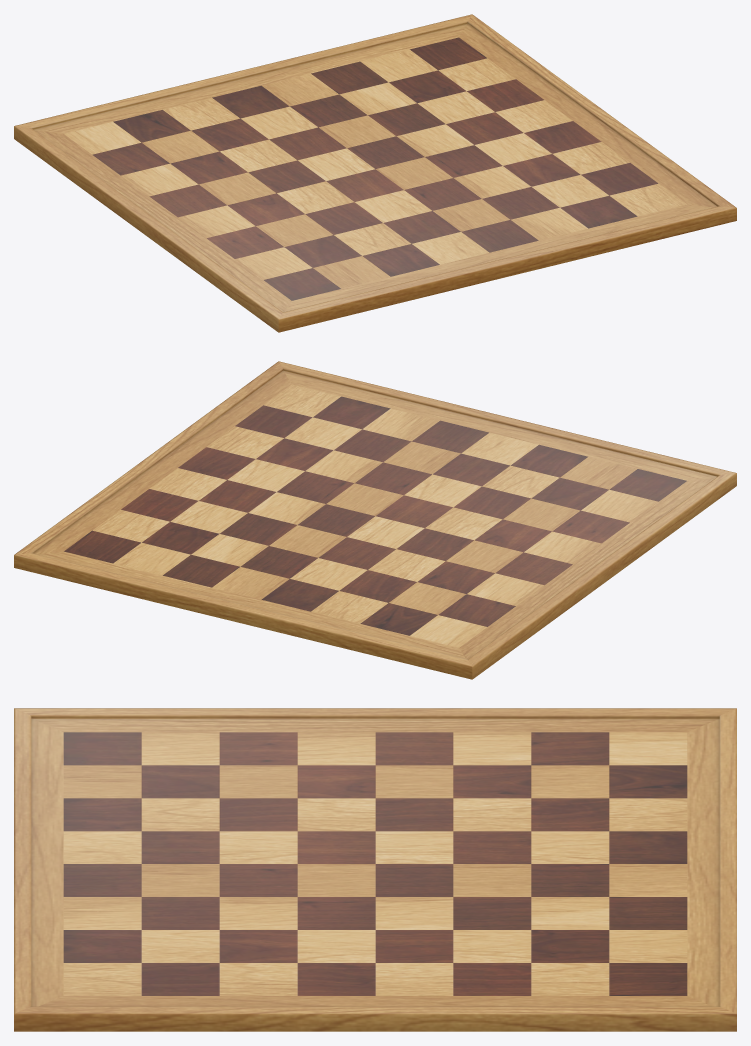
File: free_3d_model_checkers.glb
The picture shows the model from 3 angles, top to bottom: view 1: azimuth 30°, elevation 25°; view 2: azimuth 150°, elevation 25°; view 3: azimuth 270°, elevation 25°; orthographic projection. The views are drawn at different scales.
Parts seen in each view (by area): view 1: Material4-material; view 2: Material4-material; view 3: Material4-material.
Boxes of the visible parts, box(x1,y1,x2,y2) form: Material4-material: box(14, 14, 736, 332); Material4-material: box(14, 361, 736, 679); Material4-material: box(14, 708, 736, 1031).
Size of what is drawn, in the model's own units: 0.8115 by 0.0219 by 0.8115.
1 material, 1 textured.
